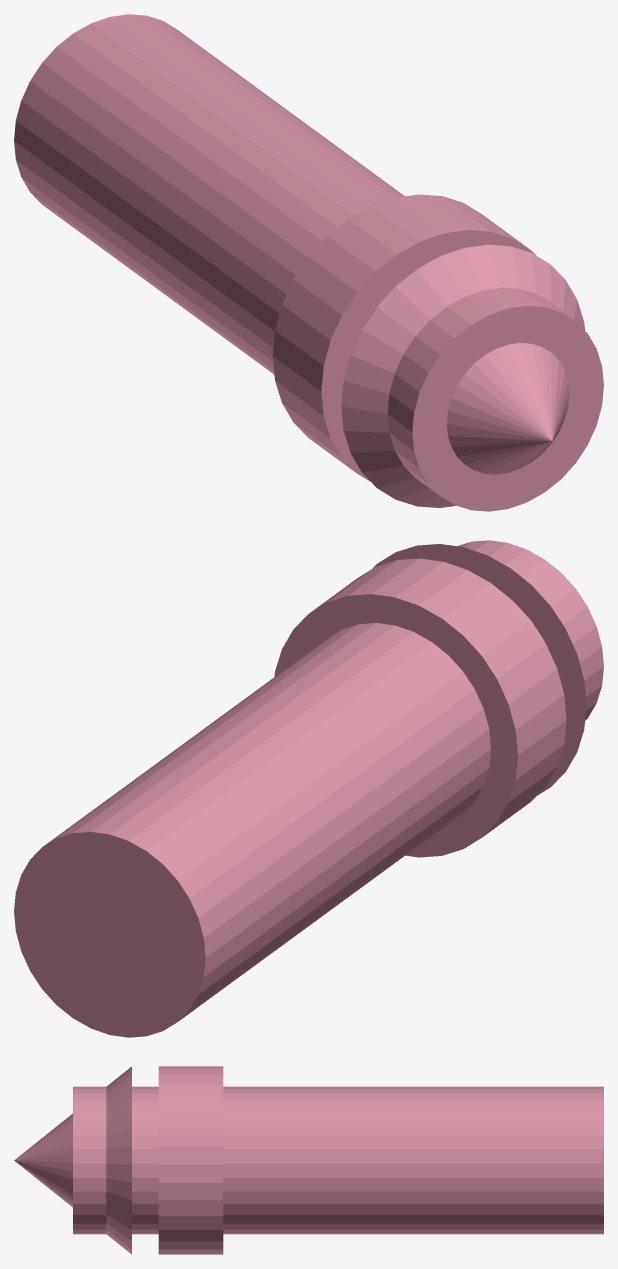
Rendered from push_pin_demo.glb.
3 views of the same model, one above another, from view 1: azimuth 30°, elevation 25°; view 2: azimuth 150°, elevation 25°; view 3: azimuth 270°, elevation 25° (orthographic). The views are drawn at different scales.
Parts seen in each view (by area): view 1: barbed_push_pin; view 2: barbed_push_pin; view 3: barbed_push_pin.
Part boxes in pixels (x1,y1,x2,y2): barbed_push_pin: [14, 14, 603, 511]; barbed_push_pin: [14, 540, 603, 1037]; barbed_push_pin: [14, 1066, 603, 1254].
Bounding box in the file's own units: 6.4 × 6.4 × 20.
